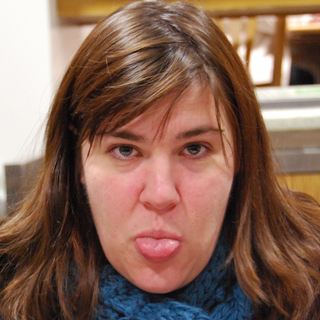eye: (103, 138, 147, 163), (174, 138, 217, 163)
